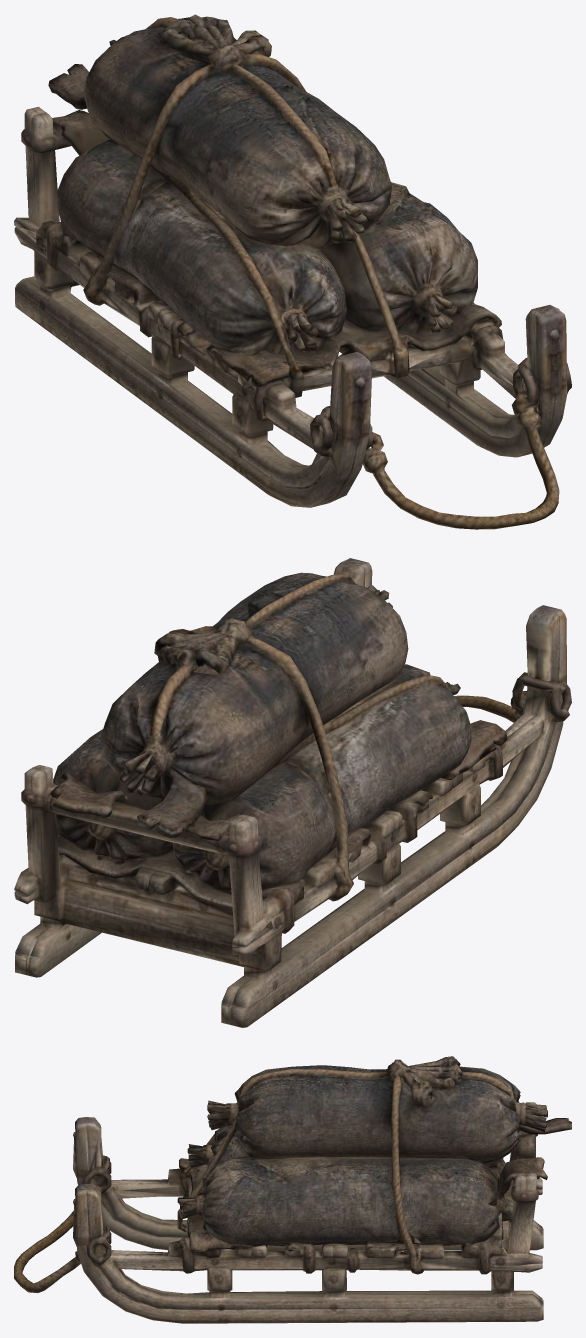
File: kit_tw_sledge.glb
3 views of the same model, one above another, from view 1: azimuth 30°, elevation 25°; view 2: azimuth 150°, elevation 25°; view 3: azimuth 270°, elevation 25° (orthographic). The views are drawn at different scales.
Parts seen in each view (by area): view 1: kit_tw_sledge; view 2: kit_tw_sledge; view 3: kit_tw_sledge.
Boxes of the visible parts, x1,y1,x2,y2 form: kit_tw_sledge: (14,14,571,529); kit_tw_sledge: (14,558,571,1027); kit_tw_sledge: (14,1056,571,1323).
Bounding box in the file's own units: 0.7518 × 0.85 × 1.93.
1 material, 1 textured.
